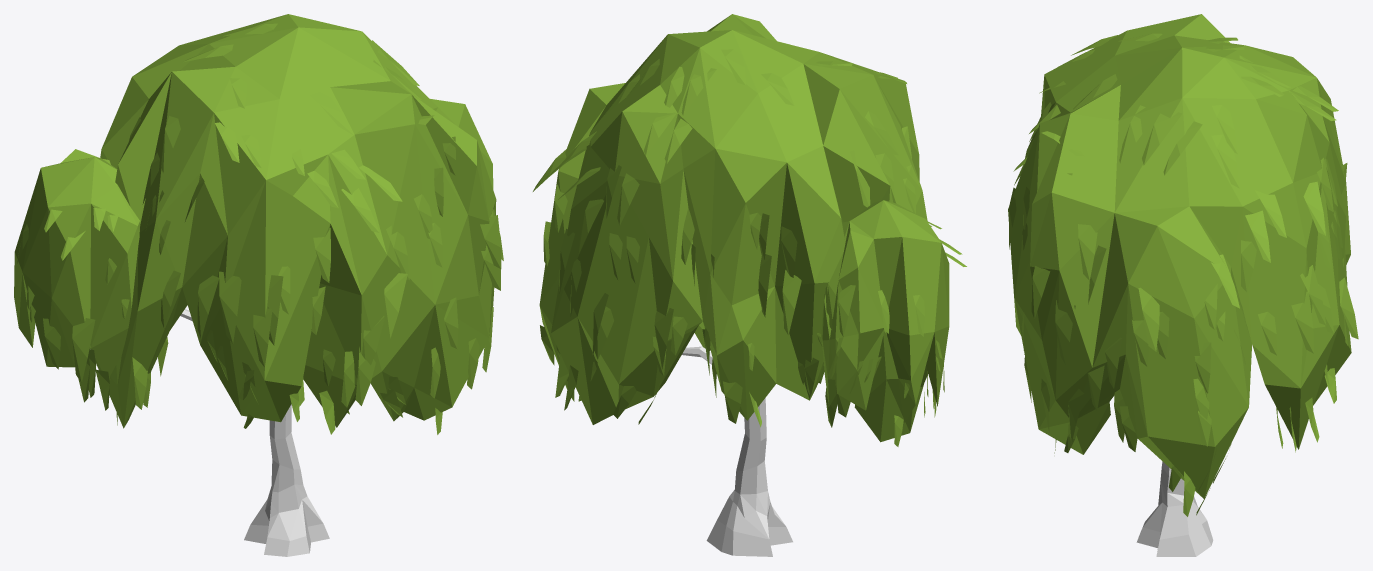
The model's file is tree-willow-weeping-young-a.gltf.
3 renders of one model, left to right at view 1: azimuth 30°, elevation 25°; view 2: azimuth 150°, elevation 25°; view 3: azimuth 270°, elevation 25°, orthographic.
Visible parts, largest first — view 1: tree-willow-weeping-young-a; view 2: tree-willow-weeping-young-a; view 3: tree-willow-weeping-young-a.
Part boxes in pixels (left/top/right/bottom): tree-willow-weeping-young-a: left=14, top=14, right=503, bottom=556; tree-willow-weeping-young-a: left=533, top=14, right=966, bottom=556; tree-willow-weeping-young-a: left=1008, top=14, right=1358, bottom=556.
Bounding box in the file's own units: 0.0337 × 0.0386 × 0.0253.
